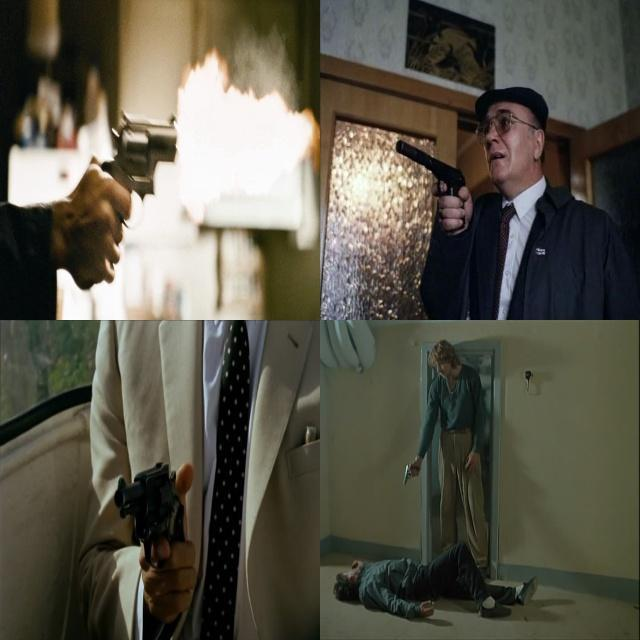gun-knife-thesis - v11 Yolov5 augmented: (76, 74, 171, 284), (109, 454, 192, 619), (387, 125, 473, 229), (398, 456, 419, 489)
